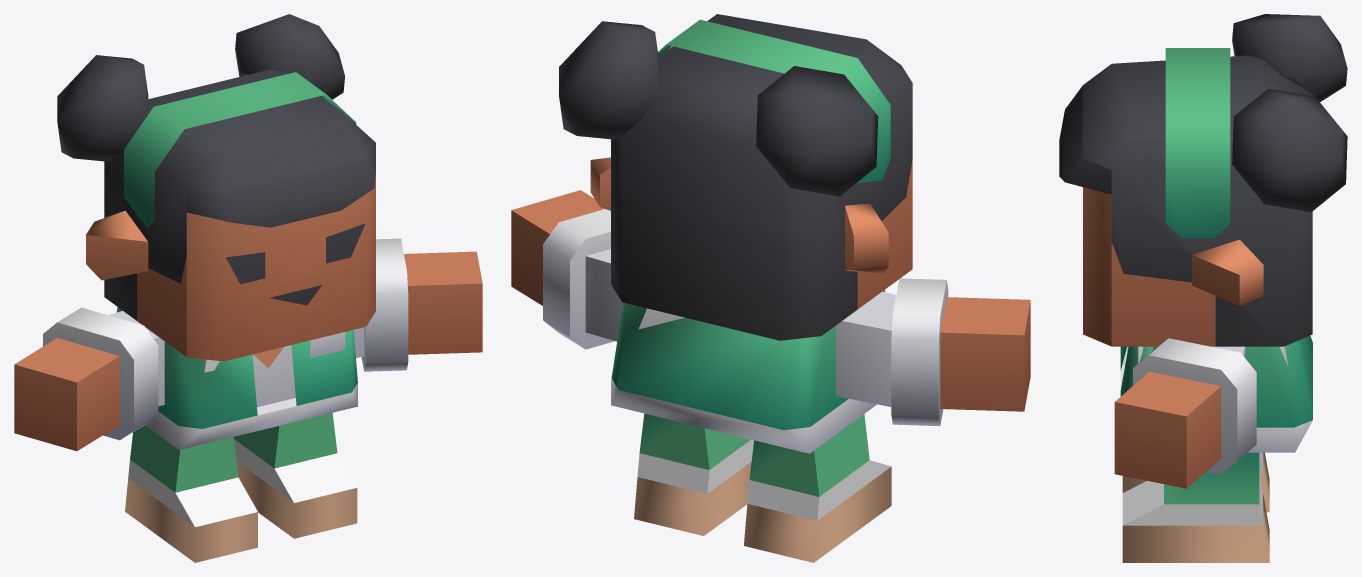
The model's file is cc0-employee-lod1.glb.
The picture shows the model from 3 angles, left to right: view 1: azimuth 30°, elevation 25°; view 2: azimuth 150°, elevation 25°; view 3: azimuth 270°, elevation 25°; orthographic projection. The views are drawn at different scales.
Parts seen in each view (by area): view 1: part_7; view 2: part_7; view 3: part_7.
Boxes of the visible parts, bbox=[...] form: part_7: bbox=[14, 14, 482, 562]; part_7: bbox=[511, 14, 1030, 562]; part_7: bbox=[1059, 14, 1347, 562].
Bounding box in the file's own units: 0.7806 × 0.7234 × 0.4014.
Materials: 1 (1 with a texture image).
